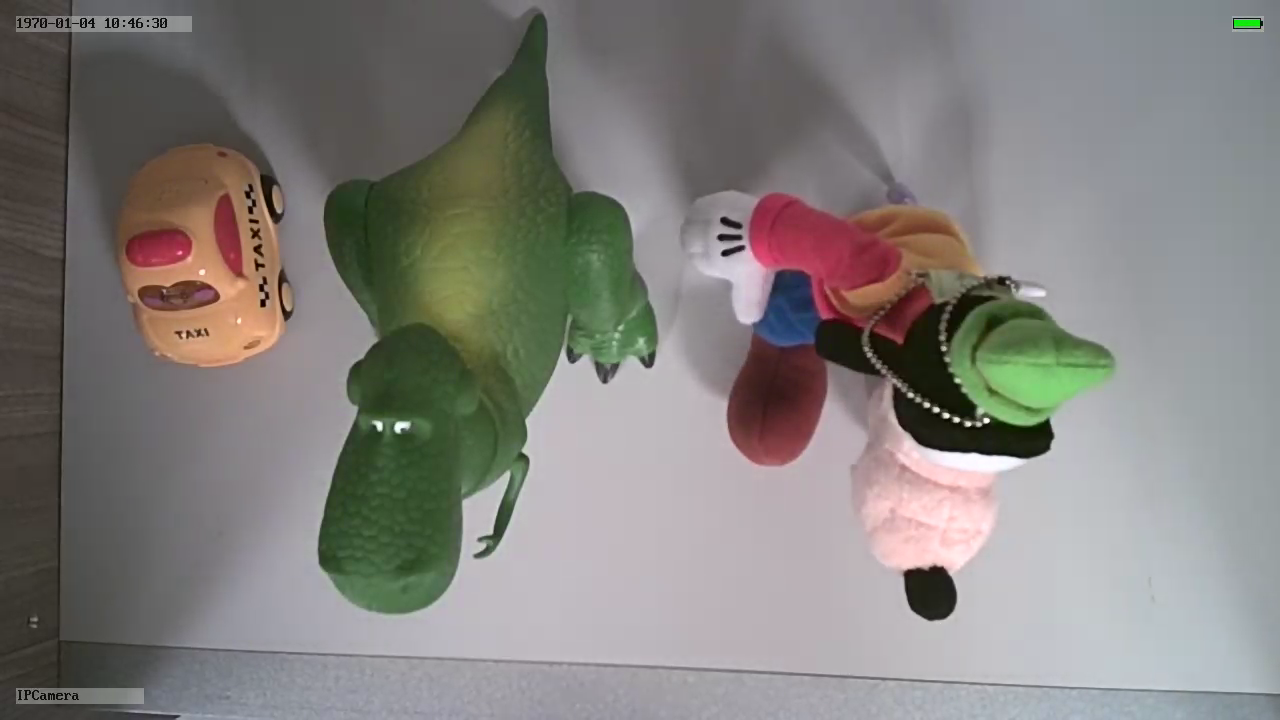goofy: (671, 182, 1118, 622)
